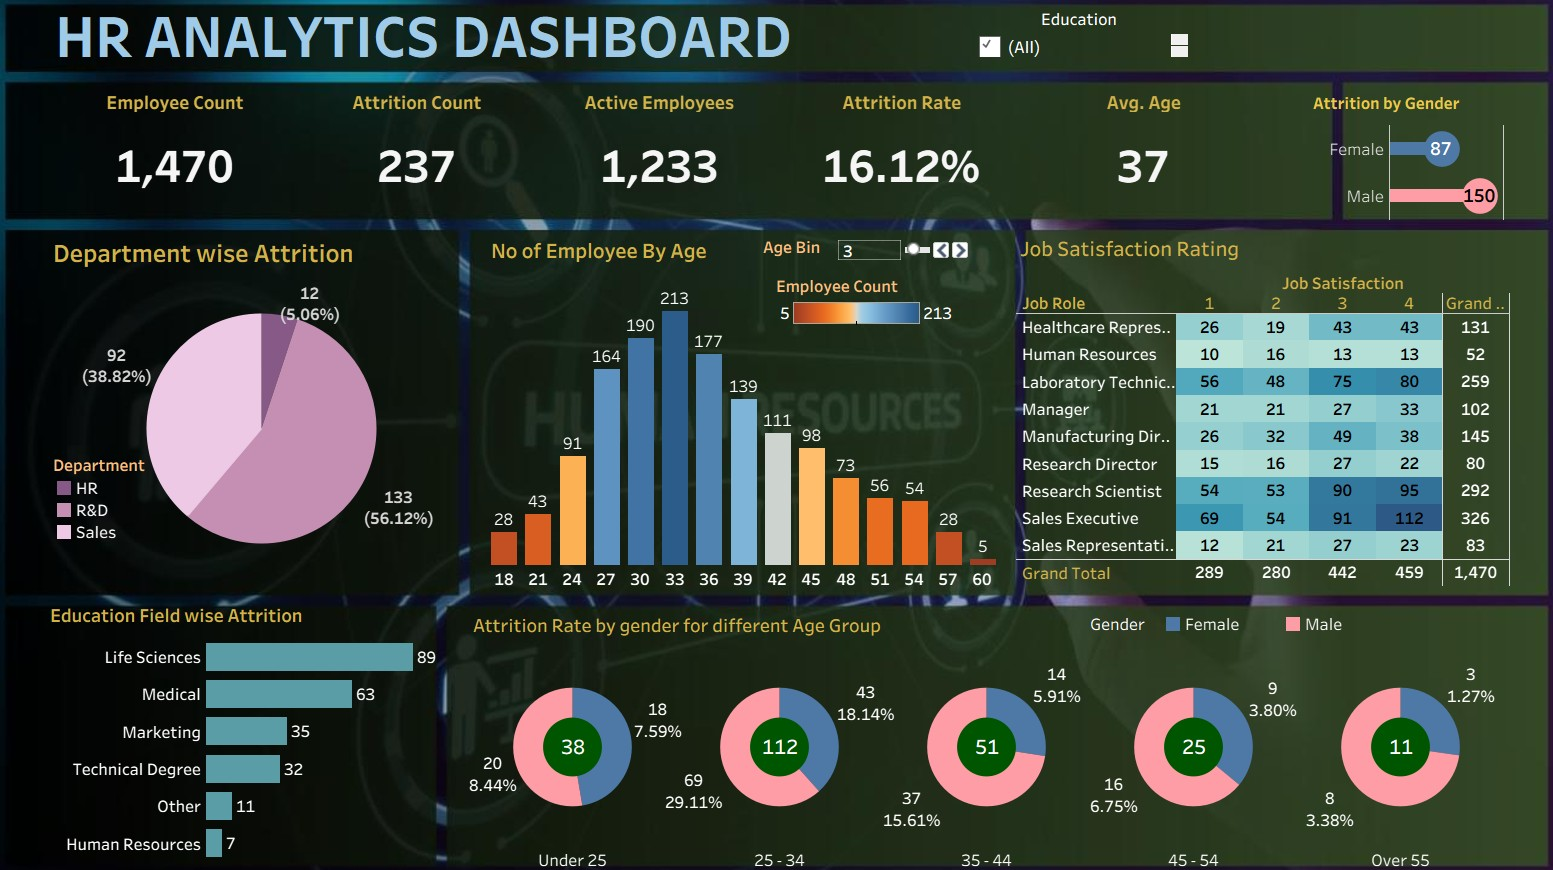

This screenshot's page, from the dashboard's own definition file:
{"tool":"tableau","page":{"name":"HR Dashboard 1","canvas":[1000,1000],"units":"permille","ordinal":0},"visuals":[{"type":"image","param":"Image/HR background.pptx (2).jpg","box":[5.1,9.4,989.9,981.2]},{"type":"text","box":[40.5,17.7,728.5,70.6]},{"type":"filter","title":"Department wise Attrition","param":"[federated.0mejf3a0fi652f1cbor3d1jh517d].[none:Education:nk]","box":[622.1,24.7,138,54.1]},{"type":"worksheet","title":"Attrition by Gender","mark":"Automatic","rows":["Gender"],"cols":["Calculation_90072021382213632","Calculation_90072021382213632"],"box":[836.7,112.9,123.4,147.1]},{"type":"worksheet","title":"KPI","mark":"Automatic","box":[42.4,117.7,766.5,138.8]},{"type":"worksheet","title":"Job Satisfaction Rating","mark":"Square","rows":["Job Role"],"cols":["Job Satisfaction"],"box":[651.3,270.6,312.7,396.5]},{"type":"worksheet","title":"Department wise Attrition","mark":"Pie","box":[39.2,272.9,269,383.5]},{"type":"worksheet","title":"No of Employee By Age","mark":"Automatic","rows":["Employee Count"],"cols":["Age (bin)"],"box":[316.5,272.9,324.7,398.8]},{"type":"parameter","param":"[Parameters].[Parameter 1]","box":[491.1,278.4,131.7,33.5]},{"type":"legend","title":"No of Employee By Age","param":"[federated.0mejf3a0fi652f1cbor3d1jh517d].[sum:Employee Count:qk]","box":[499.4,321.3,114.6,68.3]},{"type":"legend","title":"Department wise Attrition","param":"[federated.0mejf3a0fi652f1cbor3d1jh517d].[none:Department:nk]","box":[41.8,520,88.6,129.4]},{"type":"worksheet","title":"Education Field wise Attrition","mark":"Automatic","rows":["Education Field"],"cols":["Calculation_90072021382213632"],"box":[37.3,680,257,292.9]},{"type":"worksheet","title":"Attrition Rate by gender for different Age Group ","mark":"Pie","rows":["Calculation_90072022434762757","Calculation_90072022434762757"],"cols":["CF_age band"],"box":[305.1,690.6,655.1,292.9]},{"type":"legend","title":"Attrition Rate by gender for different Age Group ","param":"[federated.0mejf3a0fi652f1cbor3d1jh517d].[none:Gender:nk]","box":[698.1,696.5,256.3,42.4]}]}

Visuals, with their boxes on the dashboard's canvas, which has no fixed pixel size, in thousandths of its width and height (x1, y1, x2, y2). These are canvas units, not pixel positions in the 1553x870 screenshot, which may show the page scaled, cropped or inside an application window:
image: crop(5, 9, 995, 991)
text: crop(40, 18, 769, 88)
"Department wise Attrition" filter: crop(622, 25, 760, 79)
"Attrition by Gender" worksheet: crop(837, 113, 960, 260)
"KPI" worksheet: crop(42, 118, 809, 256)
"Job Satisfaction Rating" worksheet (Square marks): crop(651, 271, 964, 667)
"Department wise Attrition" worksheet (Pie marks): crop(39, 273, 308, 656)
"No of Employee By Age" worksheet: crop(316, 273, 641, 672)
parameter: crop(491, 278, 623, 312)
"No of Employee By Age" legend: crop(499, 321, 614, 390)
"Department wise Attrition" legend: crop(42, 520, 130, 649)
"Education Field wise Attrition" worksheet: crop(37, 680, 294, 973)
"Attrition Rate by gender for different Age Group " worksheet (Pie marks): crop(305, 691, 960, 984)
"Attrition Rate by gender for different Age Group " legend: crop(698, 696, 954, 739)
